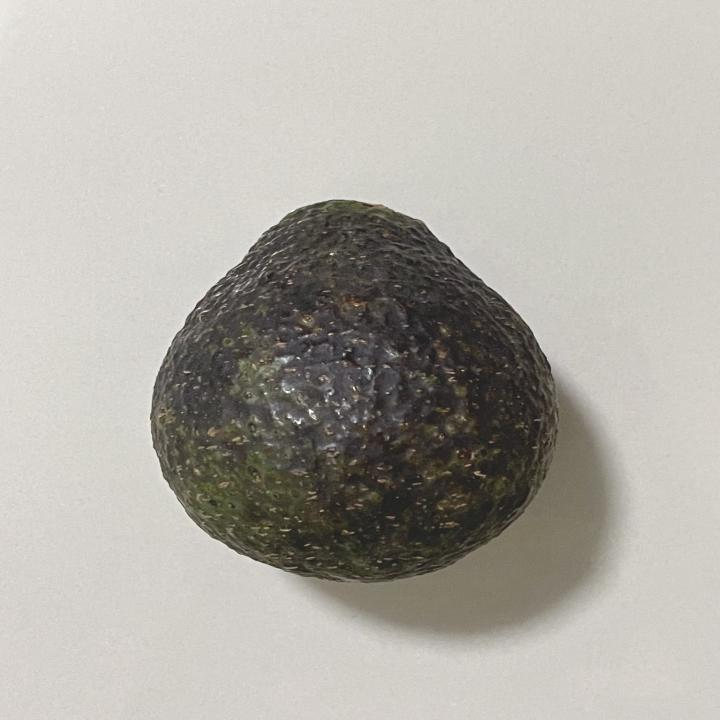Level1: (132, 186, 580, 591)
